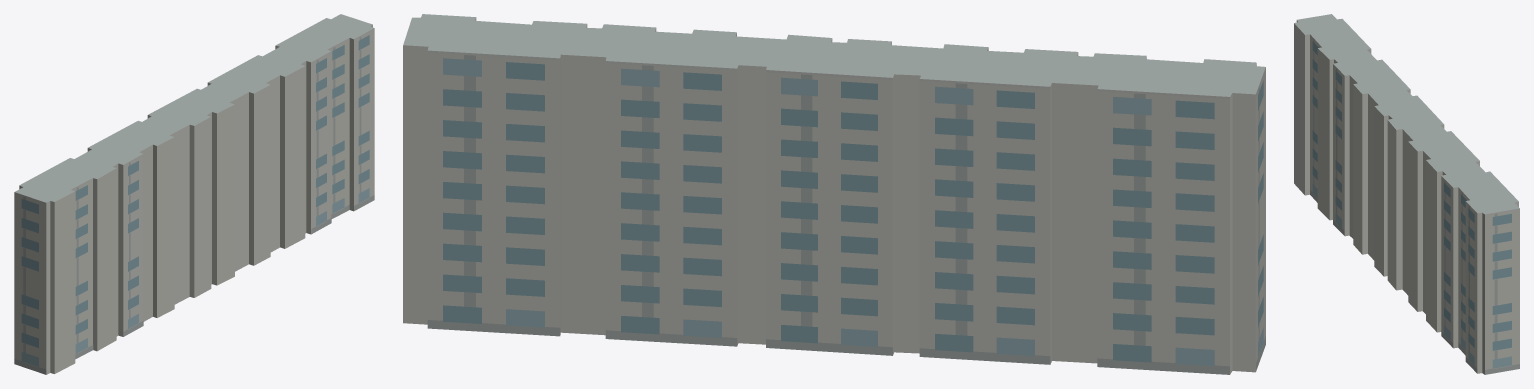
File: survey-upis-32866126.glb
3 views of the same model, side by side, from view 1: azimuth 30°, elevation 25°; view 2: azimuth 150°, elevation 25°; view 3: azimuth 270°, elevation 25° (orthographic). The views are drawn at different scales.
Visible parts, largest first — view 1: survey-upis-32866126.tmp; view 2: survey-upis-32866126.tmp; view 3: survey-upis-32866126.tmp.
Boxes of the visible parts, x1,y1,x2,y2 form: survey-upis-32866126.tmp: (14,14,374,374); survey-upis-32866126.tmp: (403,14,1265,374); survey-upis-32866126.tmp: (1294,14,1519,374).
Size of the model in its own units: 81.15 by 30.3 by 38.66.
